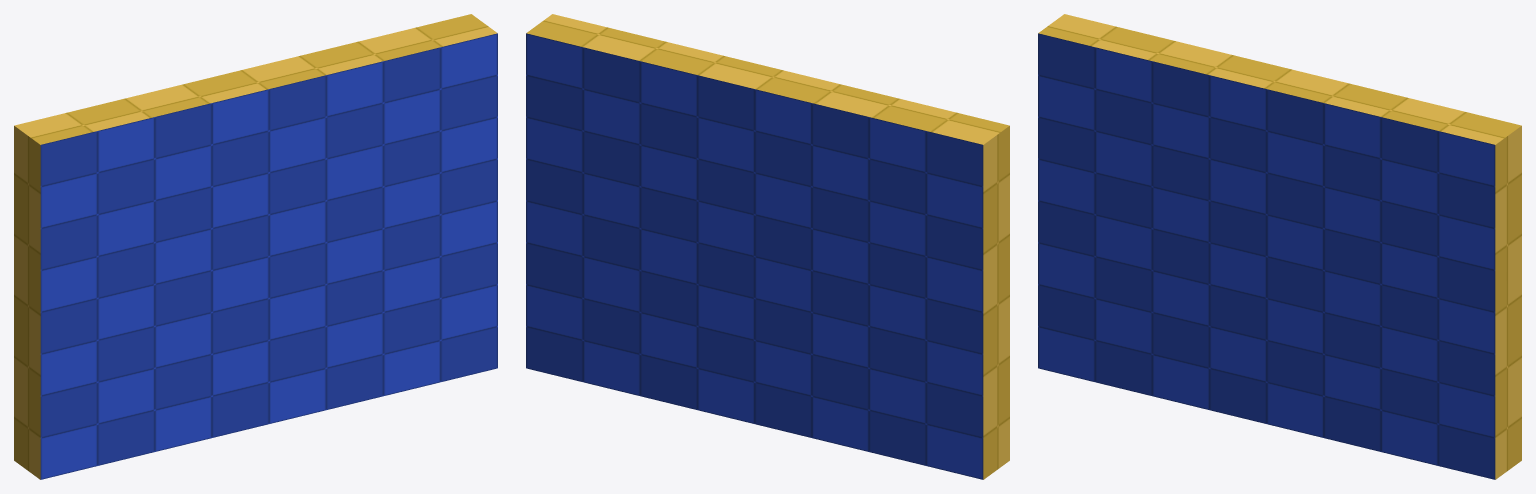
Rendered from Wall5m.fbx.
The picture shows the model from 3 angles, left to right: view 1: azimuth 30°, elevation 25°; view 2: azimuth 150°, elevation 25°; view 3: azimuth 330°, elevation 25°; orthographic projection.
Visible parts, largest first — view 1: Wall5m; view 2: Wall5m; view 3: Wall5m.
Boxes of the visible parts, x1,y1,x2,y2 form: Wall5m: (14,14,497,479); Wall5m: (526,14,1009,479); Wall5m: (1038,14,1521,479).
Bounding box in the file's own units: 500 × 50 × 350.
